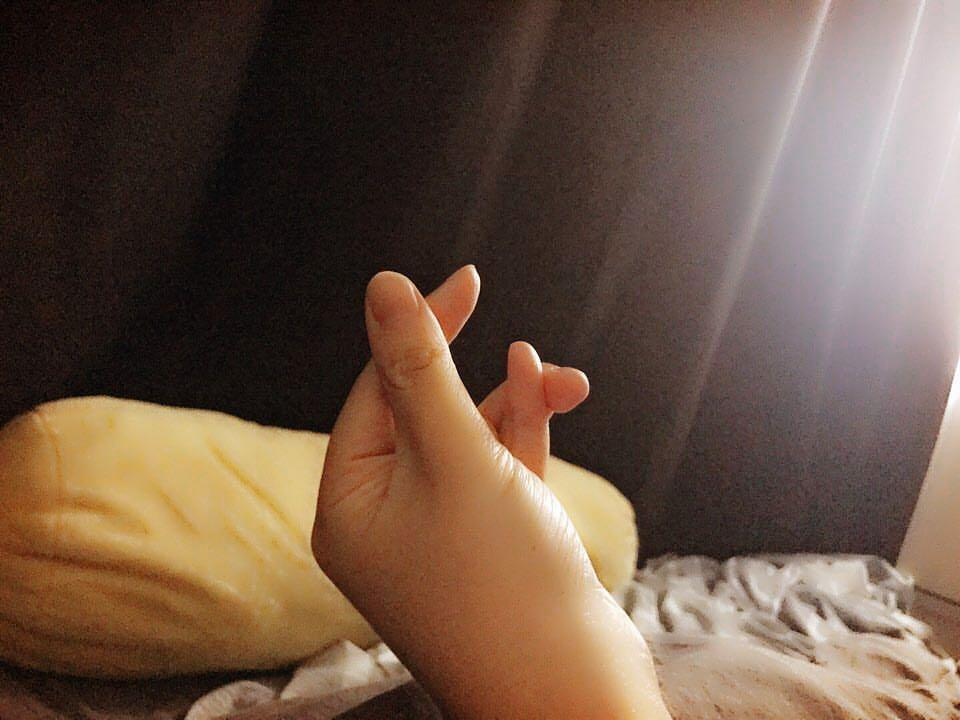heart gesture: (360, 260, 483, 392), (506, 337, 592, 427)
